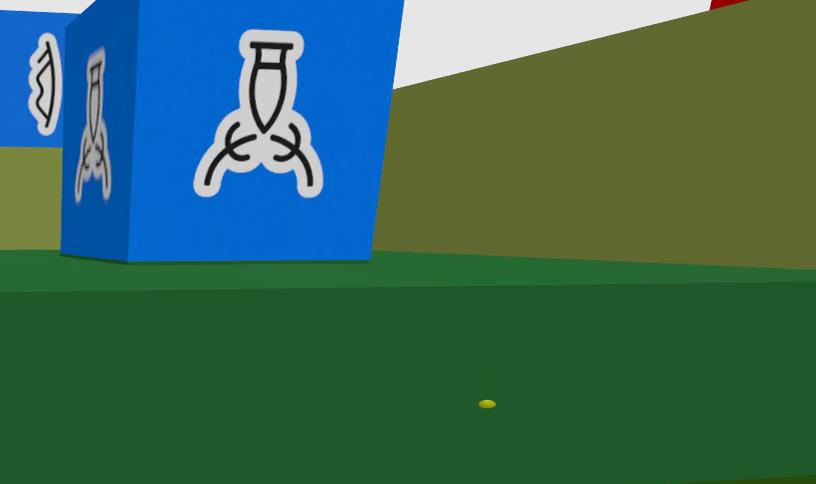KFS_REAL: (58, 0, 403, 262), (194, 29, 322, 197), (0, 10, 75, 147), (74, 49, 110, 203), (30, 34, 59, 134)
